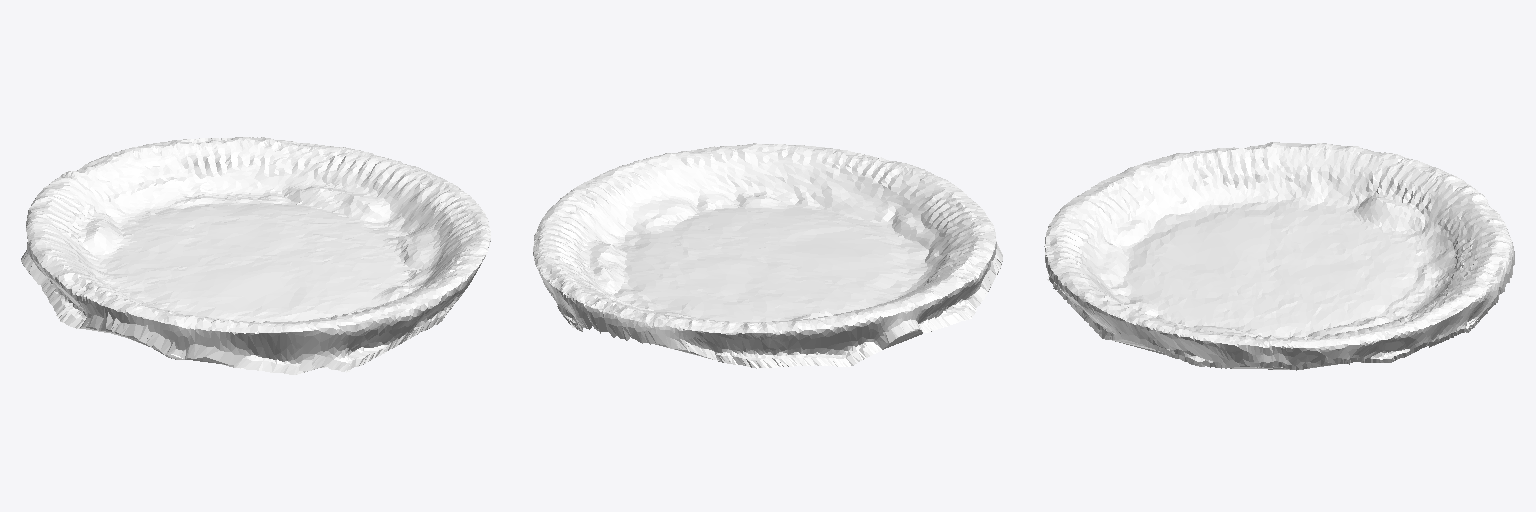
robot.urdf — plate:
<?xml version="1.0" ?>
<robot name="plate">
 <link name="baseLink">
   <contact>
     <lateral_friction value="0.5"/>
   </contact>
   <inertial>
     <origin rpy="0 0 0" xyz="-0.001238 -0.011406 -0.001505"/>
      <mass value="1.0"/>
      <inertia ixx="0.000001" ixy="0.000000" ixz="0.000000" iyy="0.000001" iyz="-0.000000" izz="0.000001"/>
   </inertial>
   <visual>
     <origin rpy="0 0 0" xyz="0 0 0"/>
     <geometry>
       <mesh filename="plate.obj" scale="1.0 1.0 1.0"/>
     </geometry>
      <material name="white">
       <color rgba="1 1 1 1"/>
     </material>
   </visual>
   <collision>
     <origin rpy="0 0 0" xyz="0 0 0"/>
     <geometry>
       <mesh filename="plate_vhacd2.obj" scale="1.0 1.0 1.0"/>
     </geometry>
   </collision>
 </link>
</robot>

--- What the picture shows (computed from the rendered views, not written in the file) ---
The picture shows the robot from 3 angles, left to right: view 1: azimuth 30°, elevation 25°; view 2: azimuth 150°, elevation 25°; view 3: azimuth 270°, elevation 25°; orthographic projection.
Model plate with 1 links and 0 joints (none), rooted at baseLink, posed all joints at 0.
Visible links, largest first — view 1: baseLink; view 2: baseLink; view 3: baseLink.
Boxes of the visible links, x1,y1,x2,y2 form: baseLink: [21, 137, 490, 374]; baseLink: [533, 143, 1002, 368]; baseLink: [1044, 142, 1514, 370].
Size in the robot's own frame: 0.2259 by 0.2283 by 0.0317 metres.
1 mesh visuals loaded from 1 distinct referenced files (1 OBJ).